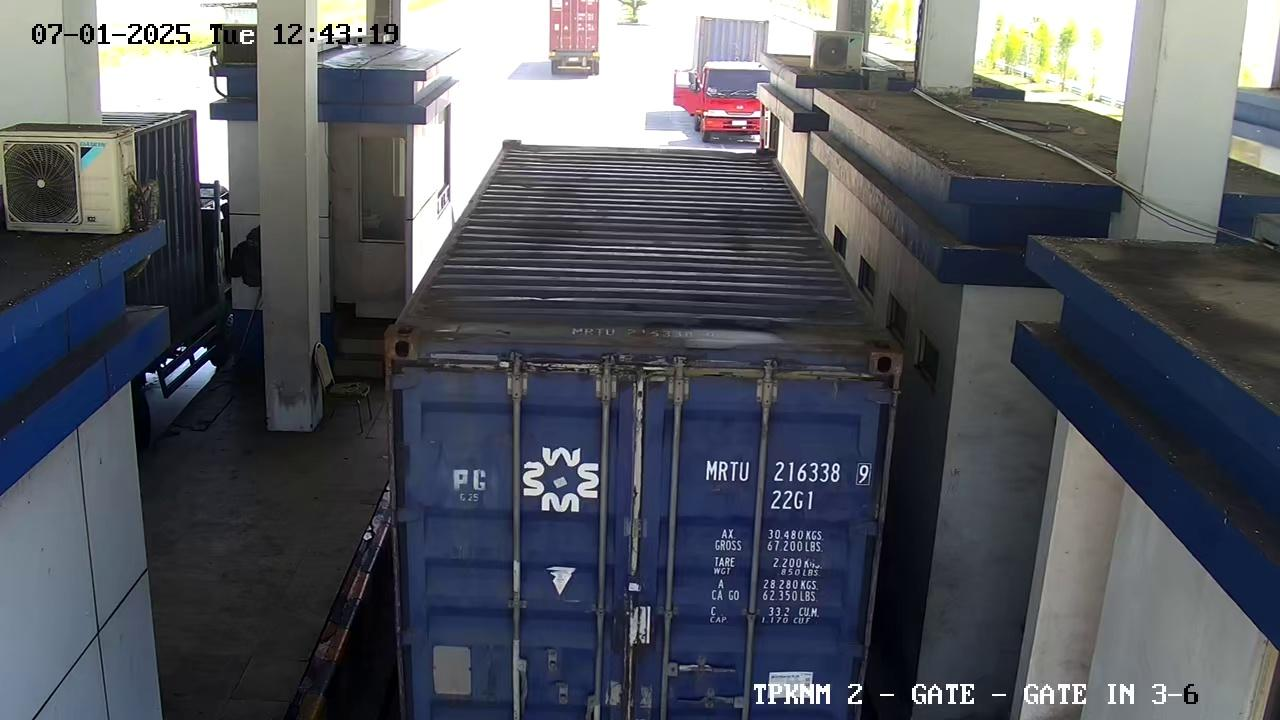Container_ID: (695, 450, 885, 524)
